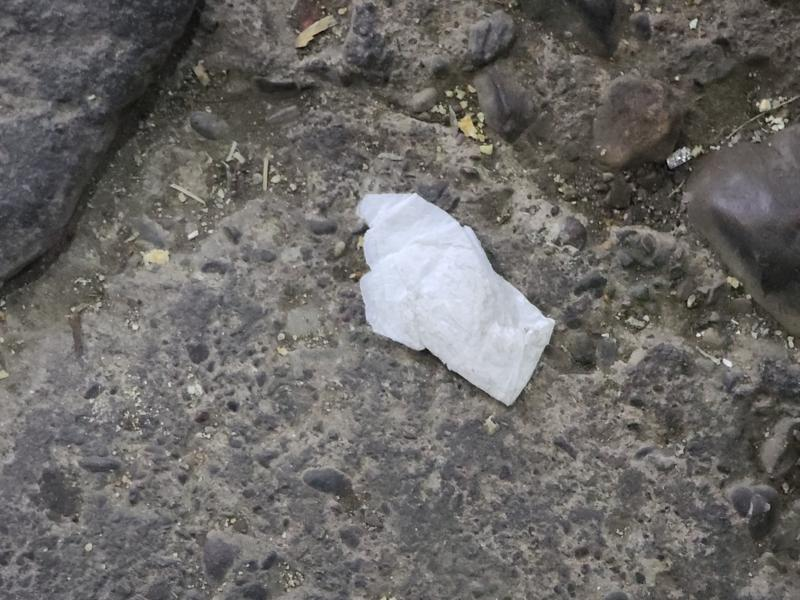papel: (354, 193, 557, 409)
